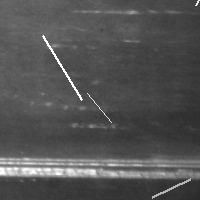scratches: (1, 151, 199, 180), (38, 31, 87, 105), (82, 88, 116, 127), (147, 174, 195, 200), (191, 0, 200, 10)
